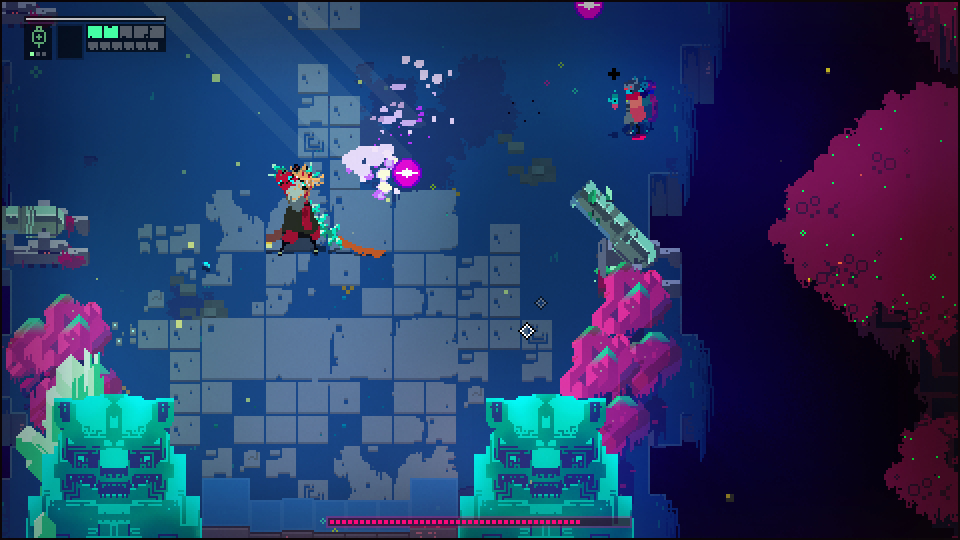hanged_man: (265, 158, 340, 255)
hanged_shot: (390, 155, 421, 187), (574, 1, 602, 19)
player: (620, 80, 646, 135)
